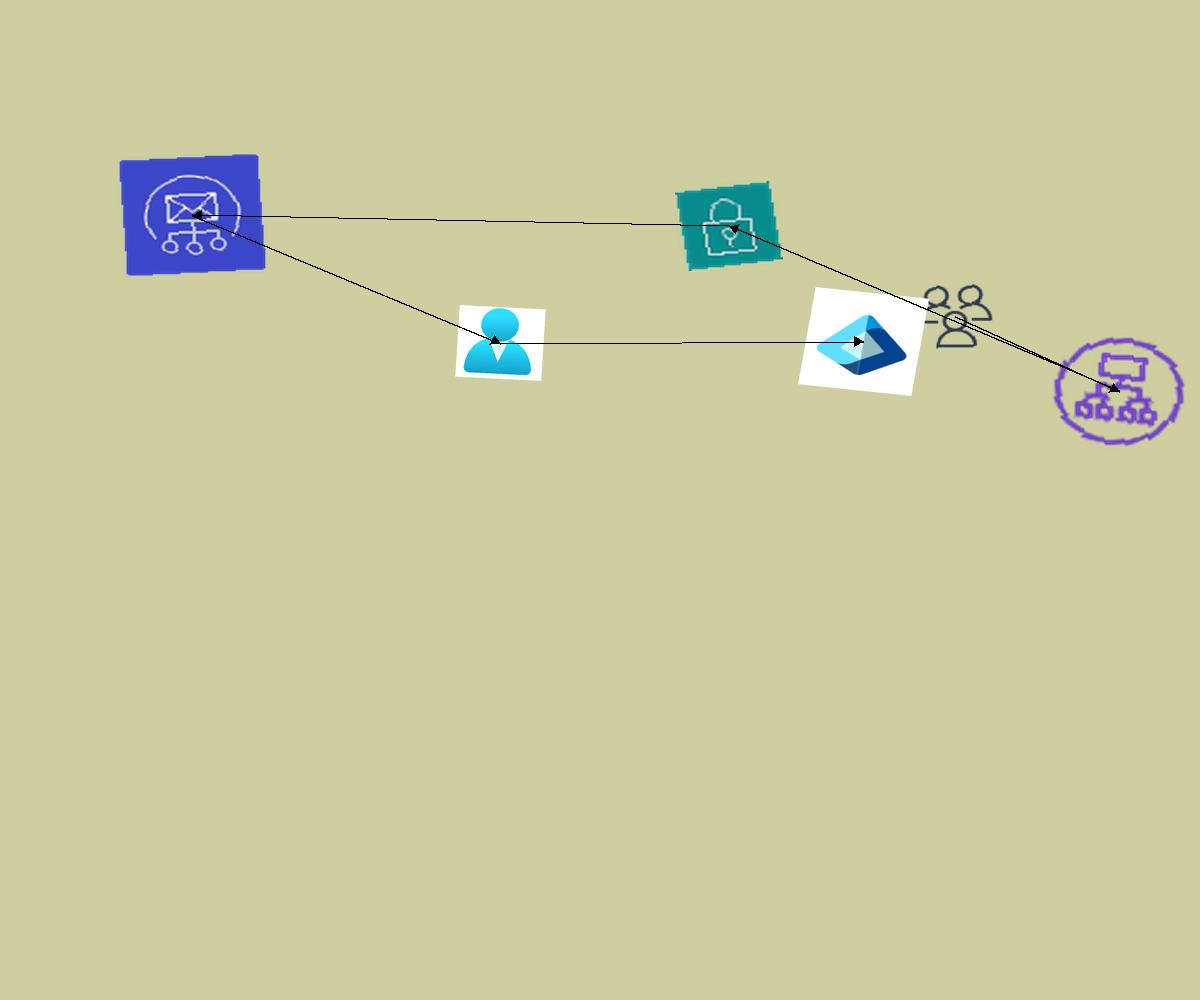AWS-Private-subnet: (675, 181, 783, 271)
AWS-Res_Elastic-Load-Balancing_Application-Load-Balancer: (1040, 326, 1198, 457)
AWS-Res_Users: (911, 280, 999, 353)
AWS-Simple-Email-Service: (118, 153, 267, 277)
Azure_microsoft_entra: (798, 287, 929, 396)
Azure_users: (455, 305, 546, 381)
